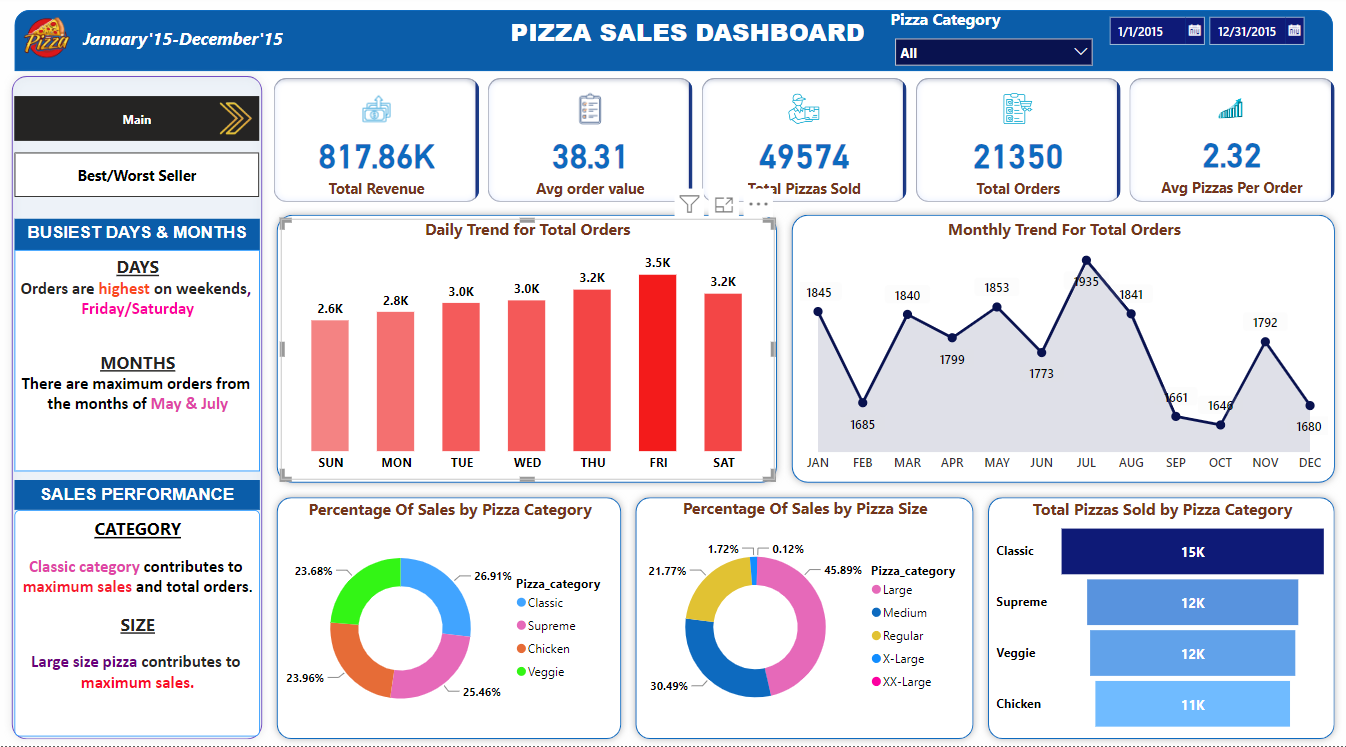

The dashboard page shown, as its layout file describes it:
{"tool":"powerbi","page":{"name":"Main","canvas":[1500,820],"ordinal":0},"visuals":[{"type":"cardVisual","fields":{"Data":["public pizza_data.Total revenue","public pizza_data.Avg order","public pizza_data.Total pizza sold","public pizza_data.Total orders","public pizza_data.Avg pizzas per order"]},"box":[304.9,81,1178.5,147],"z":0},{"type":"shape","box":[25,11.2,1448.8,67],"z":1000},{"type":"textbox","box":[520.6,11,487.6,48.1],"z":2000},{"type":"shape","box":[304.9,228,565.9,310.4],"z":3000},{"type":"columnChart","title":"Daily Trend for Total Orders ","fields":{"Category":["public pizza_data.Order day"],"Y":["public pizza_data.Total orders"]},"box":[317.3,240.4,542.5,287.1],"z":4000},{"type":"shape","box":[870.8,228,612.6,310.4],"z":5000},{"type":"areaChart","title":"Monthly Trend For Total Orders","fields":{"Category":["public pizza_data.Order month"],"Y":["public pizza_data.Total orders"]},"box":[882.5,240,590,287.5],"z":6000},{"type":"shape","box":[304.9,538.4,394.2,281.6],"z":7000},{"type":"shape","box":[699.1,538.4,387.3,281.6],"z":8000},{"type":"shape","box":[1086.5,538.4,397,281.6],"z":9000},{"type":"donutChart","title":"Percentage Of Sales by Pizza Category","fields":{"Category":["public pizza_data.pizza_category"],"Y":["public pizza_data.Total Revenue"]},"box":[317.3,548,372.2,262.3],"z":10000},{"type":"donutChart","title":"Percentage Of Sales by Pizza Size","fields":{"Category":["public pizza_data.pizza_size"],"Y":["public pizza_data.Total Revenue"]},"box":[707.4,546.7,372.2,262.3],"z":11000},{"type":"funnel","title":"Total Pizzas Sold by Pizza Category","fields":{"Category":["public pizza_data.pizza_category"],"Y":["public pizza_data.Total Pizzas sold"]},"box":[1098.8,548,375,261],"z":12000},{"type":"shape","box":[13.8,75,291.2,745],"z":13000},{"type":"textbox","box":[24.7,240.4,269.2,34.3],"z":14000},{"type":"textbox","box":[24.7,274.7,269.2,243.1],"z":15000},{"type":"textbox","box":[24.7,527.4,269.2,33],"z":16000},{"type":"textbox","box":[24.7,560.4,269.2,248.6],"z":17000},{"type":"slicer","title":"Pizza Category","fields":{"Values":["public pizza_data.pizza_category"]},"box":[982.5,10,237.5,76.2],"z":18000},{"type":"slicer","fields":{"Values":["public pizza_data.order_date"]},"box":[1216.2,8.8,243.8,70],"z":19000},{"type":"image","box":[25,10,70,65],"z":20000},{"type":"textbox","box":[95,25,247.5,36.2],"z":21000},{"type":"pageNavigator","box":[24.7,105.8,269.2,49.4],"z":21001},{"type":"pageNavigator","box":[24.7,167.6,269.2,49.4],"z":21002},{"type":"image","box":[241.7,100.3,52.2,60.4],"z":21003}]}

Visuals, with their boxes in screenshot pixels (x1, y1, x2, y2), scaled from the page's 1500x820 canvas onto the 1346x747 screenshot:
cardVisual - public pizza_data.Total revenue x public pizza_data.Avg order: pyautogui.locateOnScreen(274, 74, 1331, 208)
shape: pyautogui.locateOnScreen(22, 10, 1322, 71)
textbox: pyautogui.locateOnScreen(467, 10, 905, 54)
shape: pyautogui.locateOnScreen(274, 208, 781, 490)
"Daily Trend for Total Orders " columnChart: pyautogui.locateOnScreen(285, 219, 772, 481)
shape: pyautogui.locateOnScreen(781, 208, 1331, 490)
"Monthly Trend For Total Orders" areaChart: pyautogui.locateOnScreen(792, 219, 1321, 481)
shape: pyautogui.locateOnScreen(274, 490, 627, 746)
shape: pyautogui.locateOnScreen(627, 490, 975, 746)
shape: pyautogui.locateOnScreen(975, 490, 1331, 746)
"Percentage Of Sales by Pizza Category" donutChart: pyautogui.locateOnScreen(285, 499, 619, 738)
"Percentage Of Sales by Pizza Size" donutChart: pyautogui.locateOnScreen(635, 498, 969, 737)
"Total Pizzas Sold by Pizza Category" funnel: pyautogui.locateOnScreen(986, 499, 1322, 737)
shape: pyautogui.locateOnScreen(12, 68, 274, 746)
textbox: pyautogui.locateOnScreen(22, 219, 264, 250)
textbox: pyautogui.locateOnScreen(22, 250, 264, 472)
textbox: pyautogui.locateOnScreen(22, 480, 264, 511)
textbox: pyautogui.locateOnScreen(22, 511, 264, 737)
"Pizza Category" slicer: pyautogui.locateOnScreen(882, 9, 1095, 79)
slicer - public pizza_data.order_date: pyautogui.locateOnScreen(1091, 8, 1310, 72)
image: pyautogui.locateOnScreen(22, 9, 85, 68)
textbox: pyautogui.locateOnScreen(85, 23, 307, 56)
pageNavigator: pyautogui.locateOnScreen(22, 96, 264, 141)
pageNavigator: pyautogui.locateOnScreen(22, 153, 264, 198)
image: pyautogui.locateOnScreen(217, 91, 264, 146)
